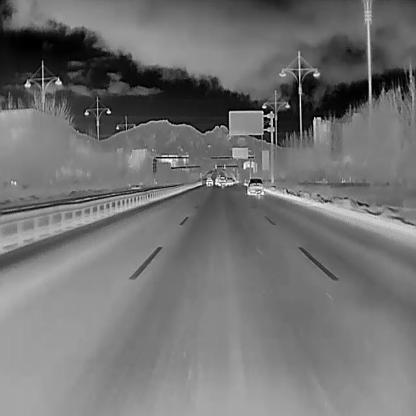car: (247, 178, 264, 195), (205, 175, 213, 187), (219, 176, 226, 188), (214, 173, 220, 185), (226, 176, 232, 186), (232, 178, 236, 184)
